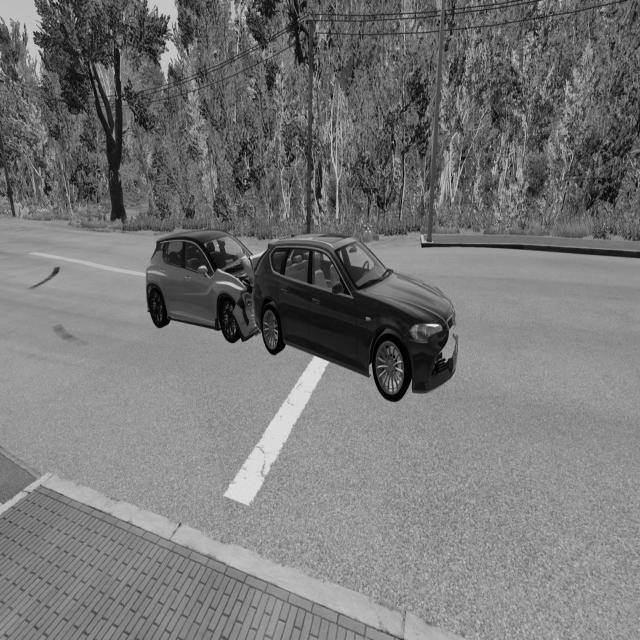accident: (145, 221, 465, 411)
